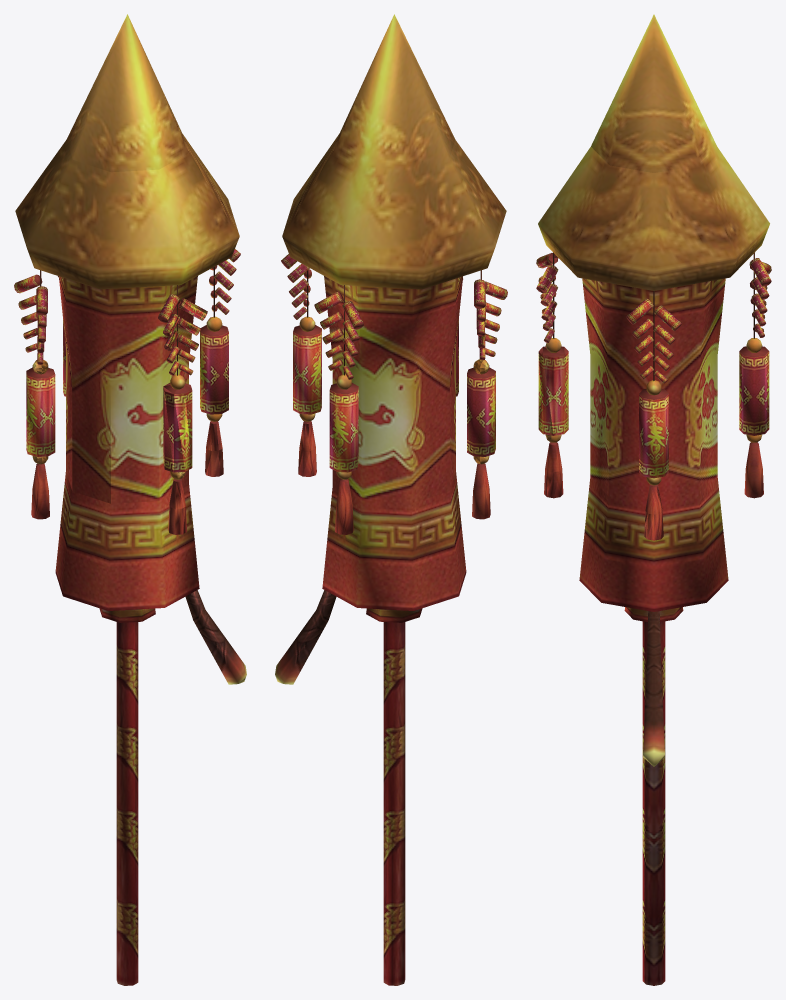
The picture shows the model from 3 angles, left to right: view 1: azimuth 30°, elevation 25°; view 2: azimuth 150°, elevation 25°; view 3: azimuth 270°, elevation 25°; orthographic projection.
Parts seen in each view (by area): view 1: wuqi; view 2: wuqi; view 3: wuqi.
Boxes of the visible parts, x1,y1,x2,y2 form: wuqi: [14, 14, 246, 985]; wuqi: [275, 14, 507, 985]; wuqi: [536, 14, 771, 985].
Size of the model in its own units: 59.78 by 251 by 55.38.
